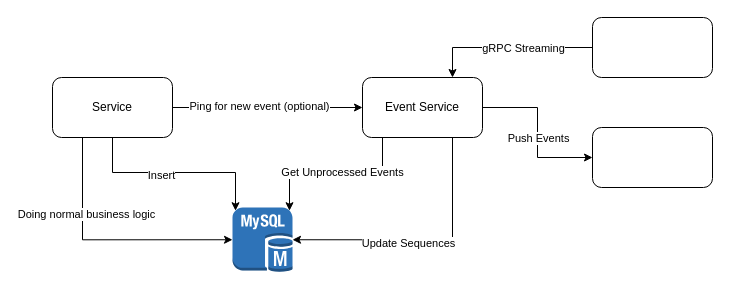
Some shapes in this 730 by 290 pixel diagram are drawn without their labels. Each missing label, with the centre of its shape:
Subscriber A: point (652, 47)
Subscriber B: point (652, 157)
